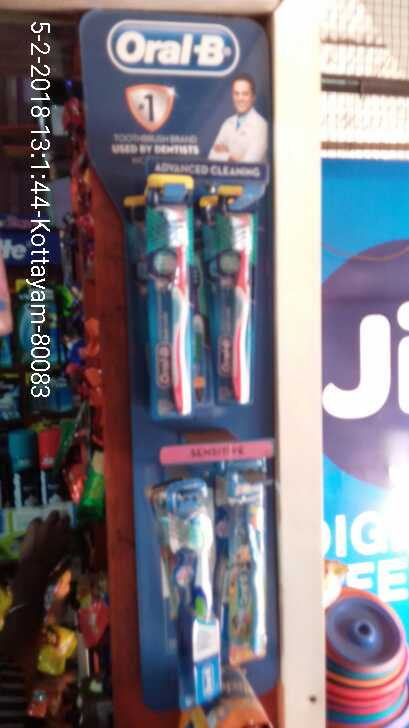oralb: (143, 169, 195, 417), (165, 477, 213, 701), (219, 181, 257, 405)
